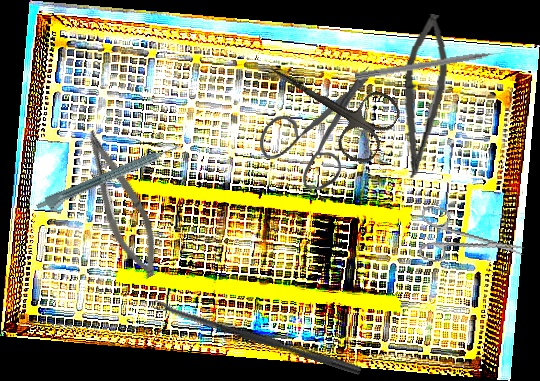Handpiece: (34, 141, 183, 218)
Iris Scissors: (251, 34, 406, 171), (258, 61, 376, 192), (412, 204, 530, 280)
Micro Scissor: (68, 124, 173, 284), (397, 12, 452, 181)
Pusher: (354, 47, 515, 82)
Surgical Spoon: (152, 298, 363, 376)
